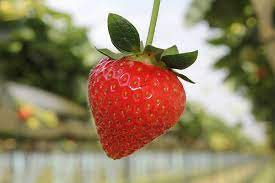ripe: (85, 51, 192, 162)
